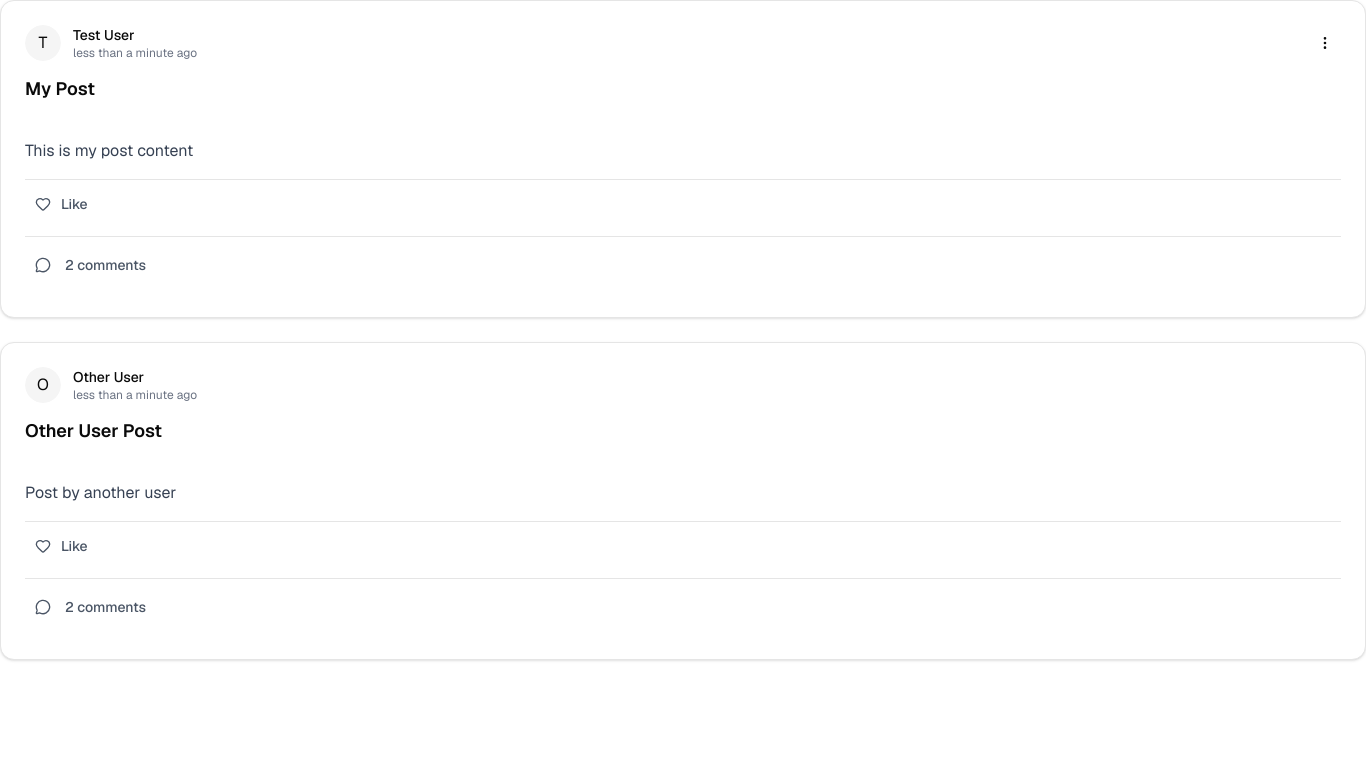
it: AlbumPostFeed › Dialog Interactions › opens edit dialog when edit is clicked
// Open dropdown for own post
Click the button with test id "post-dropdown-post-1" at (1325, 43), box [1309,27,1341,59]
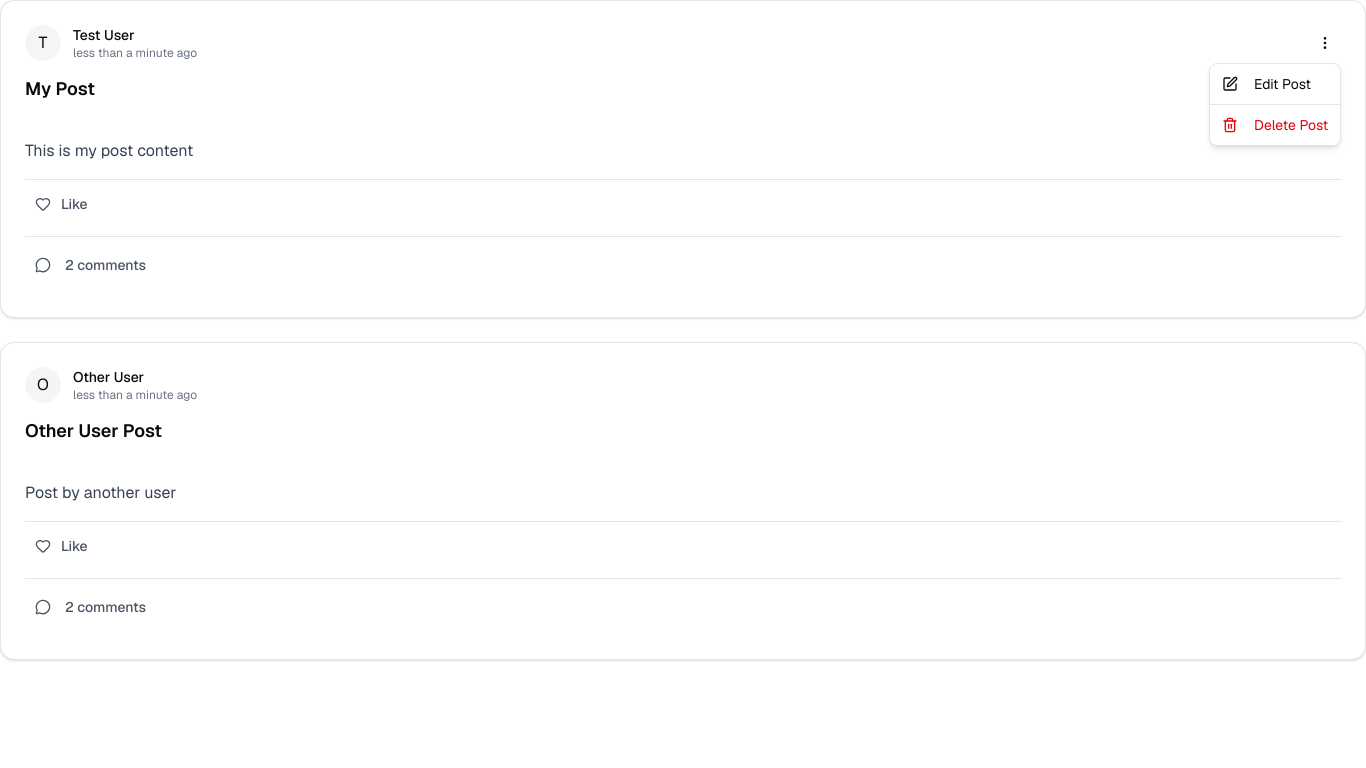
// Click edit
Click the menu item "Edit Post" at (1266, 84), box [1222,75,1311,93]
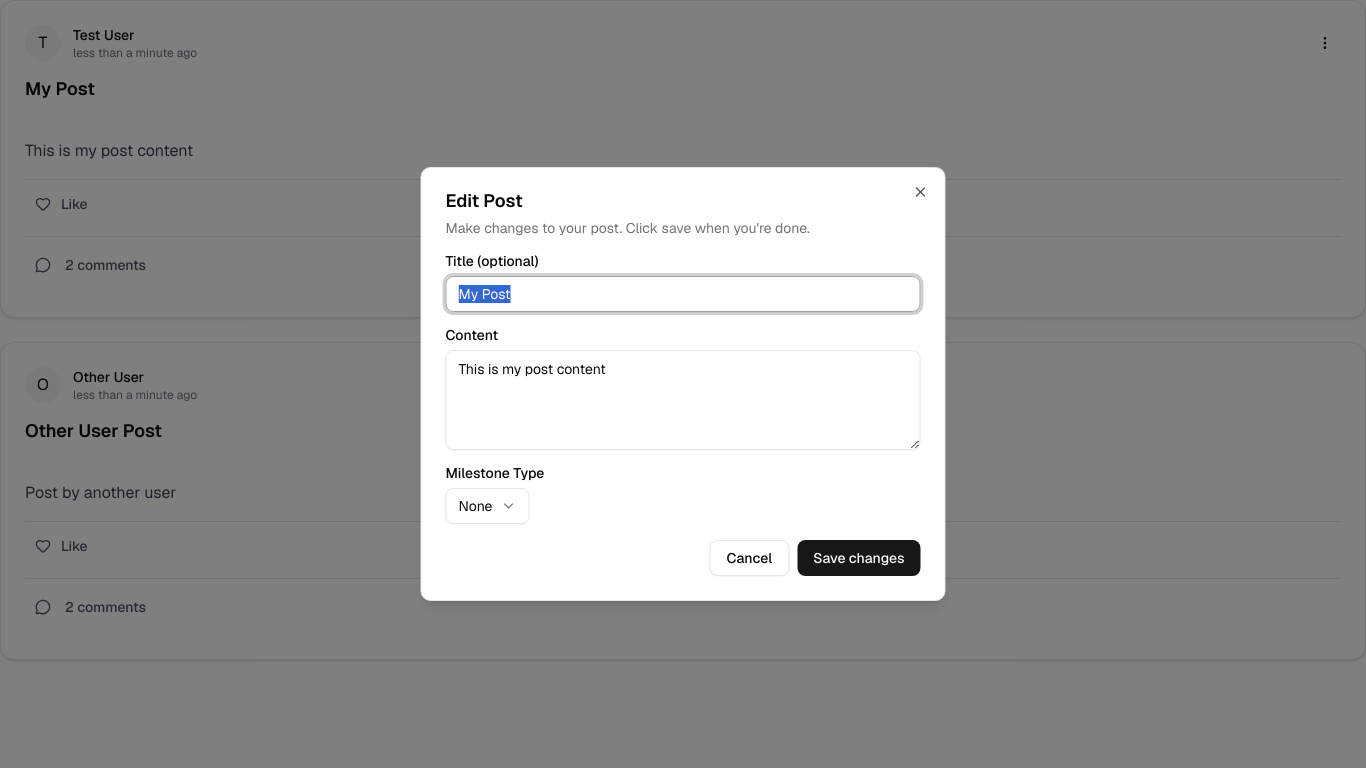
Check: the dialog is shown, box [420,167,946,601]
Check: the field showing "My Post" is shown, box [446,276,920,312]
